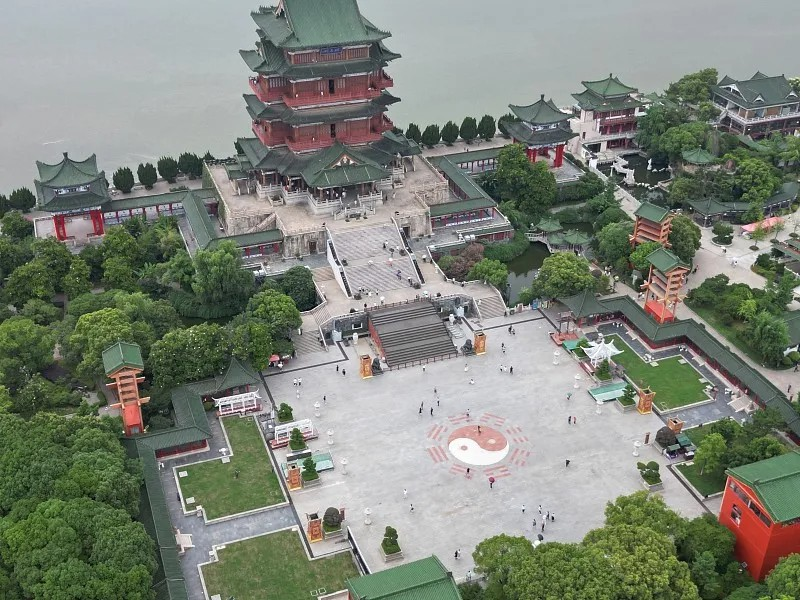Teng: (224, 1, 422, 197)
